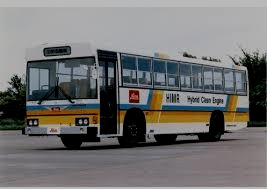bus: (18, 45, 247, 150)
